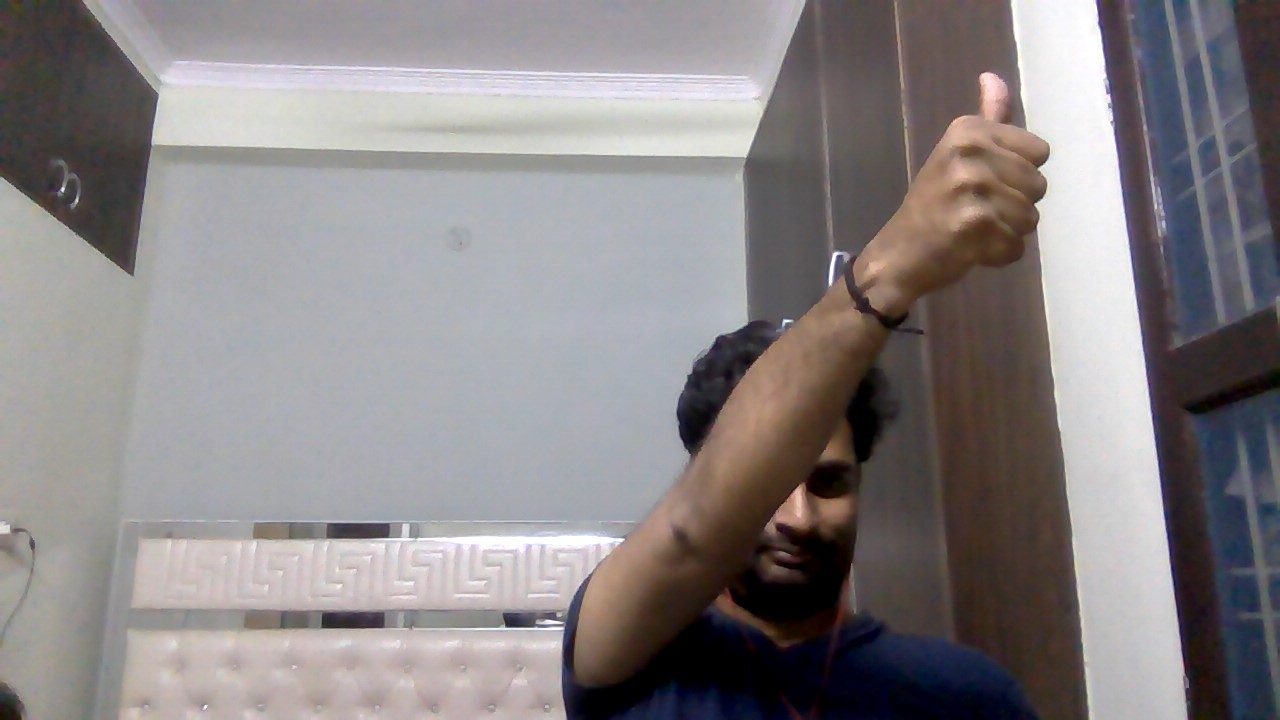Save: (881, 56, 1063, 319)
